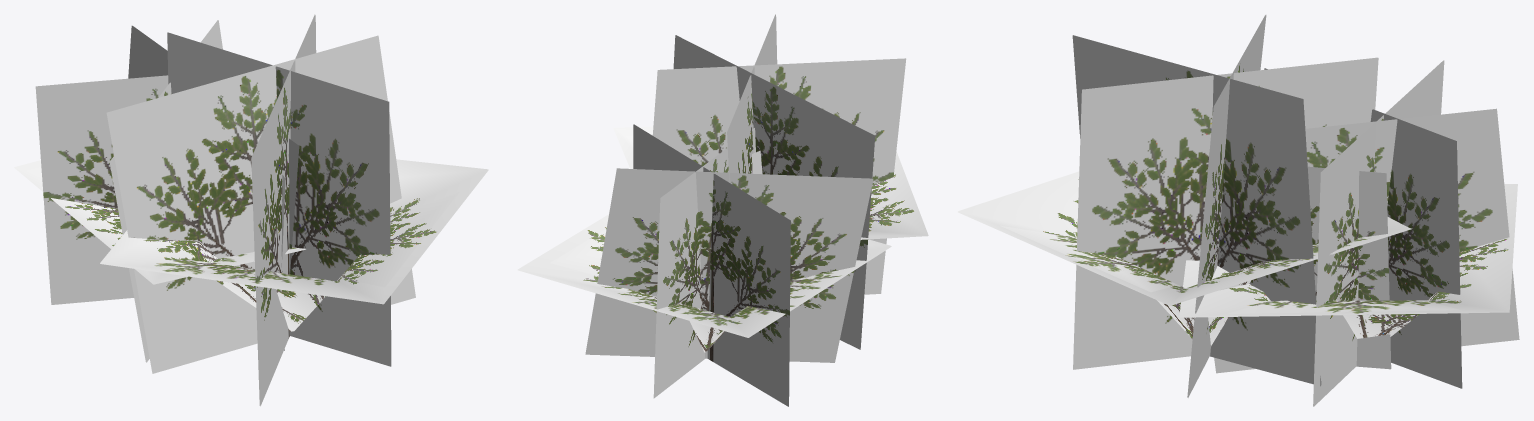
File: weed_bush01b.fbx
The picture shows the model from 3 angles, left to right: view 1: azimuth 30°, elevation 25°; view 2: azimuth 150°, elevation 25°; view 3: azimuth 270°, elevation 25°; orthographic projection. The views are drawn at different scales.
Parts seen in each view (by area): view 1: weed_bush01b; view 2: weed_bush01b; view 3: weed_bush01b.
Boxes of the visible parts, x1,y1,x2,y2 form: weed_bush01b: [14, 14, 488, 406]; weed_bush01b: [517, 14, 928, 406]; weed_bush01b: [958, 15, 1519, 406].
Bounding box in the file's own units: 151 × 116 × 185.
